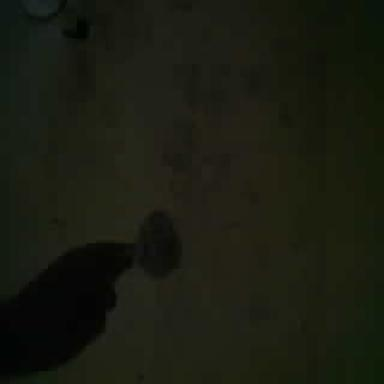paper: (136, 211, 180, 277)
